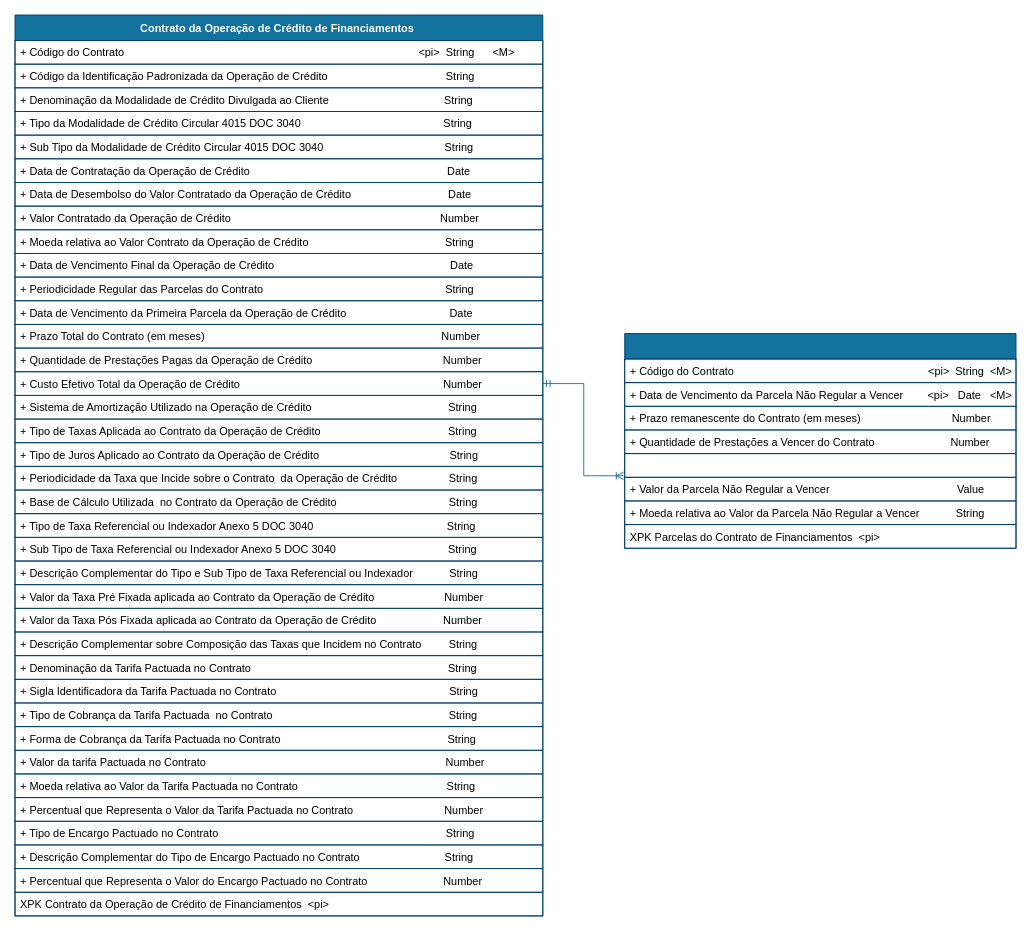
The diagram is 1031 pixels wide and 931 high, and some of its shapes have lost their labels. The box of each missing label's shape, as (x1, y1, x2, y2) in pixels:
+ Quantidade de Prestações Vencidas do Contrato Number: (624, 453, 1016, 477)
Parcelas do Contrato da Operação de Crédito de Financiamentos: (624, 333, 1016, 548)
